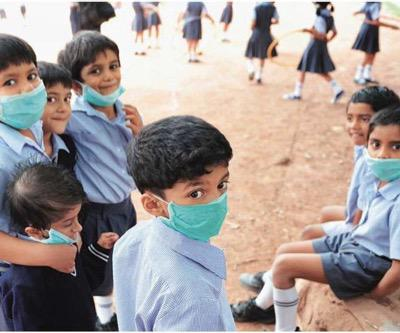mask_weared_incorrect: (82, 61, 125, 107), (363, 136, 399, 182), (47, 214, 83, 248)
with_mask: (166, 168, 231, 243), (0, 66, 48, 131)
without_mask: (44, 87, 72, 135), (345, 109, 372, 147)
